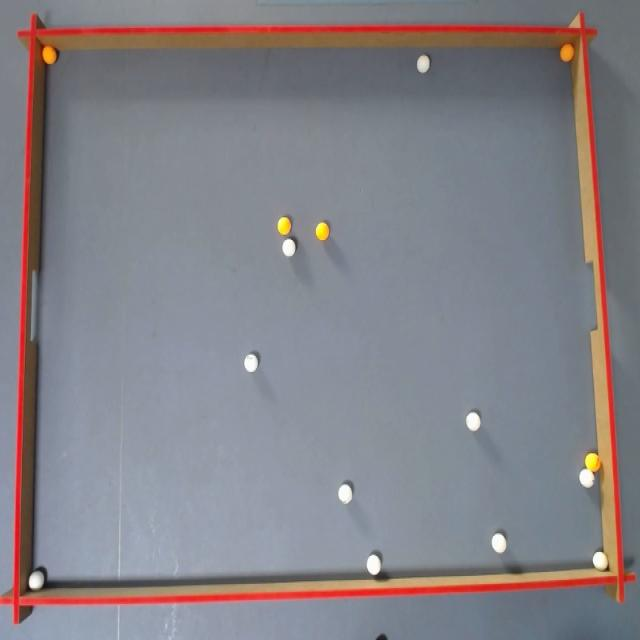orange_ball: (585, 452, 600, 472), (42, 46, 57, 64), (560, 43, 574, 62), (315, 222, 329, 240), (278, 217, 290, 234)
white_ball: (28, 569, 45, 591), (492, 532, 506, 554), (367, 553, 381, 575), (466, 411, 481, 431), (593, 551, 608, 571), (579, 469, 594, 488), (338, 484, 352, 504), (244, 353, 258, 372), (282, 238, 296, 256), (416, 54, 429, 73)
